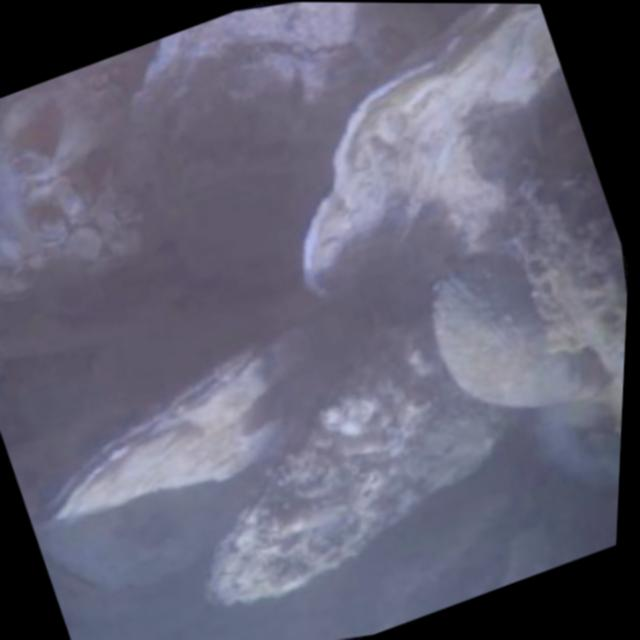Oyster-Closed: (198, 315, 506, 605), (301, 4, 567, 308), (44, 321, 326, 523)
Oyster-Indeterminate: (117, 2, 434, 276)
